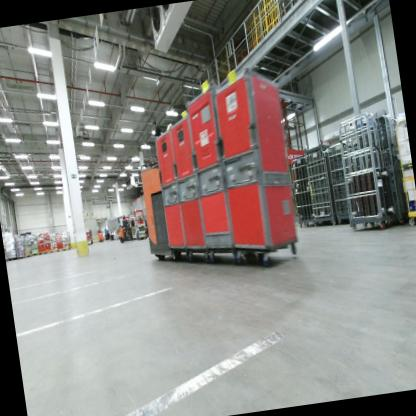pallet_truck: (133, 149, 224, 260), (114, 219, 136, 246), (94, 230, 105, 247)
